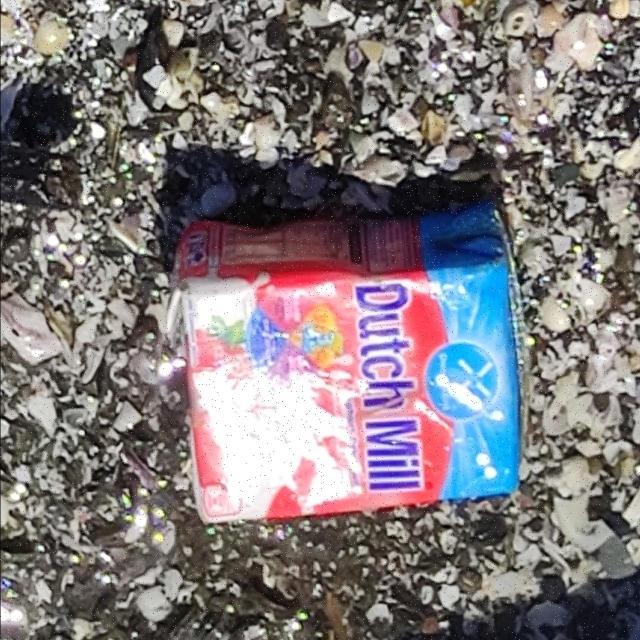cardboard_waste: (169, 195, 533, 527)
